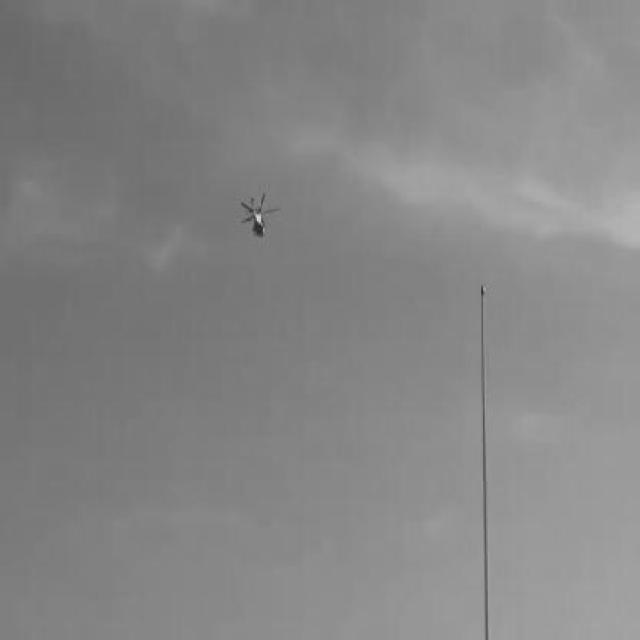helikopter: (238, 189, 284, 248)
